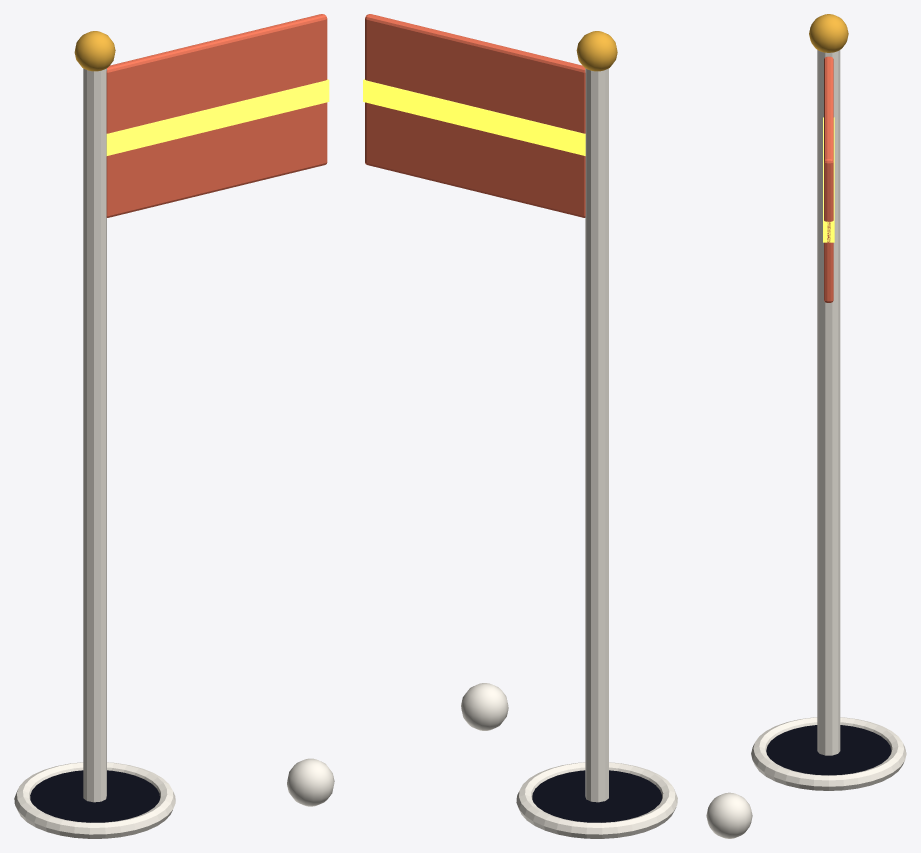
Rendered from golf_flag.glb.
3 views of the same model, side by side, from view 1: azimuth 30°, elevation 25°; view 2: azimuth 150°, elevation 25°; view 3: azimuth 270°, elevation 25° (orthographic). The views are drawn at different scales.
Parts seen in each view (by area): view 1: flag, pole, band, cup, rim, golfball, knob; view 2: flag, pole, band, cup, rim, golfball, knob; view 3: pole, cup, rim, flag, golfball, knob, band.
Boxes of the visible parts, x1,y1,x2,y2 form: flag: (106, 14, 327, 217); pole: (83, 68, 106, 802); band: (106, 79, 329, 155); cup: (30, 770, 159, 822); rim: (14, 762, 175, 838); golfball: (287, 758, 334, 806); knob: (74, 31, 115, 71); flag: (365, 14, 585, 217); pole: (585, 68, 608, 802); band: (363, 79, 585, 155); cup: (532, 770, 661, 822); rim: (516, 762, 677, 838); golfball: (461, 683, 508, 730); knob: (576, 31, 617, 71); pole: (817, 50, 840, 755); cup: (766, 725, 891, 775); rim: (751, 717, 906, 790); flag: (824, 56, 833, 302); golfball: (706, 792, 752, 838); knob: (809, 14, 848, 52); band: (823, 117, 834, 242).
Bounding box in the file's own units: 1.01 × 2.49 × 0.605.
